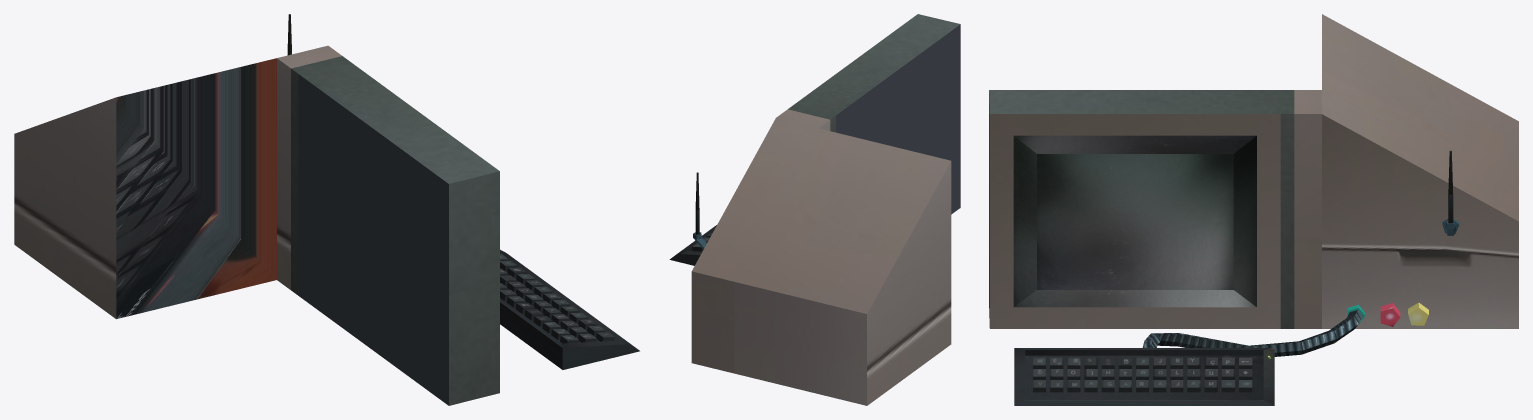
The model's file is Bilgisayar.fbx.
3 views of the same model, side by side, from view 1: azimuth 30°, elevation 25°; view 2: azimuth 150°, elevation 25°; view 3: azimuth 270°, elevation 25° (orthographic). The views are drawn at different scales.
Visible parts, largest first — view 1: Cube, Cube.002, Cube.001; view 2: Cube, Cube.002; view 3: Cube.002, Cube, Cube.001.
Boxes of the visible parts, x1,y1,x2,y2 form: Cube: (14, 14, 639, 369); Cube.002: (291, 56, 499, 405); Cube.001: (500, 254, 614, 343); Cube: (669, 109, 951, 405); Cube.002: (788, 14, 960, 214); Cube.002: (989, 90, 1294, 328); Cube: (1014, 14, 1518, 405); Cube.001: (1033, 357, 1252, 392).
Bounding box in the file's own units: 345 × 205 × 447.
